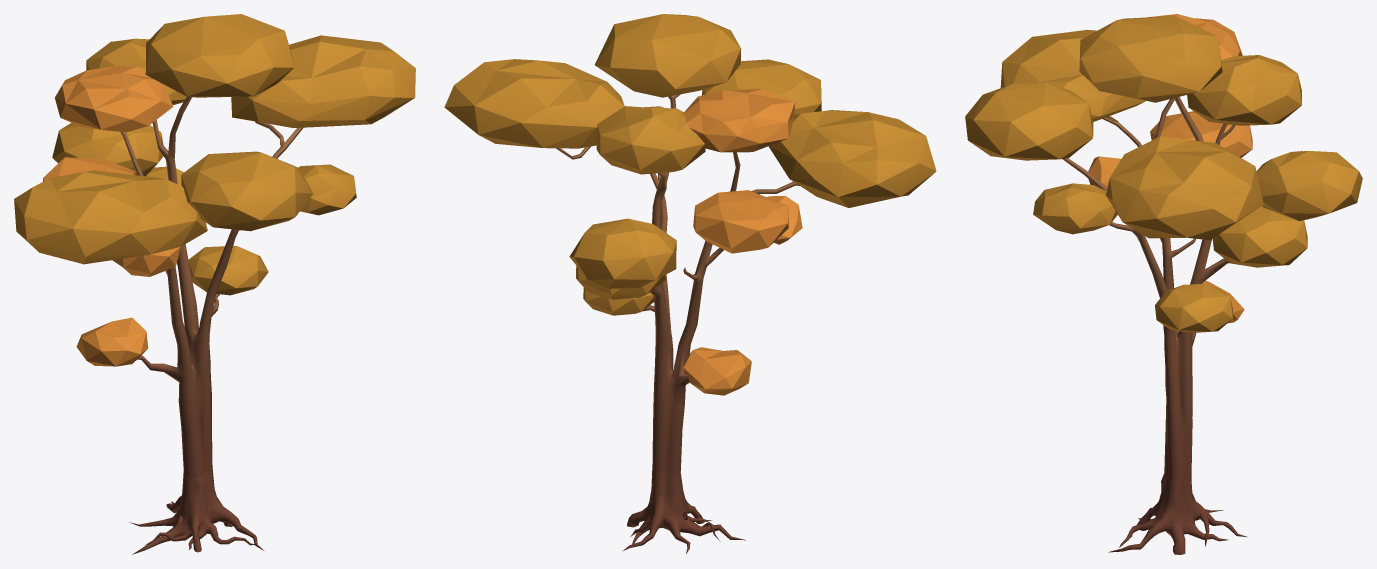
The model's file is ZLP_Plant_F_11.FBX.
3 views of the same model, side by side, from view 1: azimuth 30°, elevation 25°; view 2: azimuth 150°, elevation 25°; view 3: azimuth 270°, elevation 25° (orthographic). The views are drawn at different scales.
Visible parts, largest first — view 1: ZLP_Plant_F_11; view 2: ZLP_Plant_F_11; view 3: ZLP_Plant_F_11.
Part boxes in pixels (x1,y1,x2,y2): ZLP_Plant_F_11: (14,14,415,554); ZLP_Plant_F_11: (444,14,936,553); ZLP_Plant_F_11: (965,14,1362,554).
Size of the model in its own units: 468 by 528 by 374.
